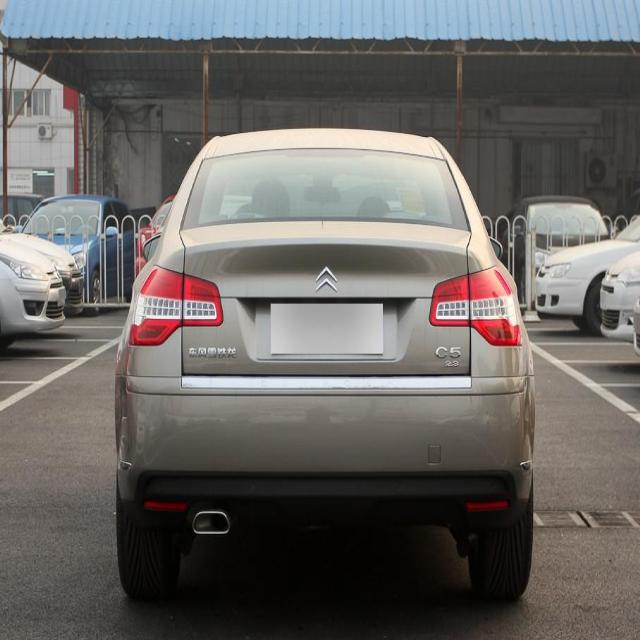back_glass: (178, 146, 472, 233)
back_left_side_light: (127, 262, 223, 348)
back_right_side_light: (428, 262, 524, 348)
front_left_side_mirror: (142, 231, 165, 267)
front_right_side_mirror: (486, 235, 505, 261)
rear_bumper: (114, 364, 537, 532)
